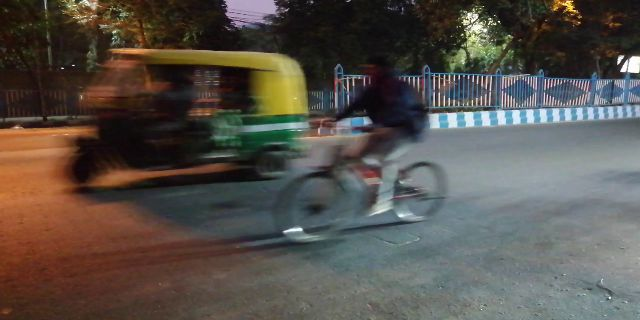Autorickshaw: (60, 41, 312, 185)
Cycle: (272, 59, 448, 251)
